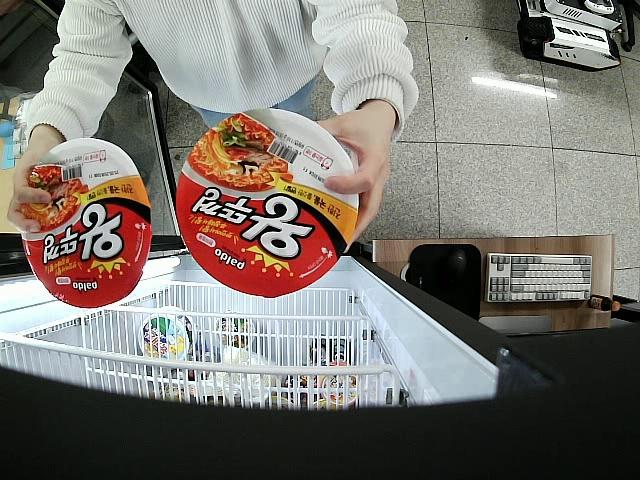00_hand: (305, 101, 391, 254), (7, 131, 67, 234)
10_wangTtukkeong: (173, 106, 359, 299), (19, 139, 153, 308)
